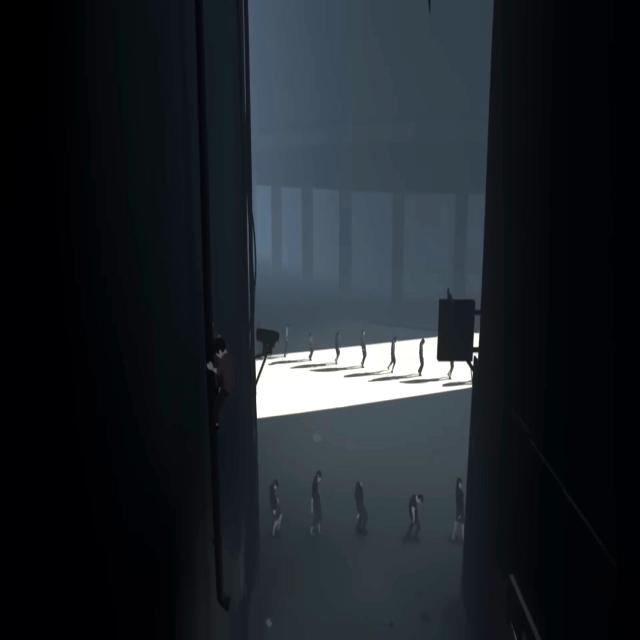boy: (207, 321, 231, 430)
zombie: (405, 494, 424, 542), (310, 470, 322, 537), (452, 477, 464, 541), (354, 482, 368, 533), (270, 480, 282, 537), (387, 337, 397, 373), (418, 338, 424, 376), (335, 332, 341, 364), (361, 330, 366, 368), (284, 326, 290, 357), (309, 332, 313, 361), (448, 361, 453, 379)
